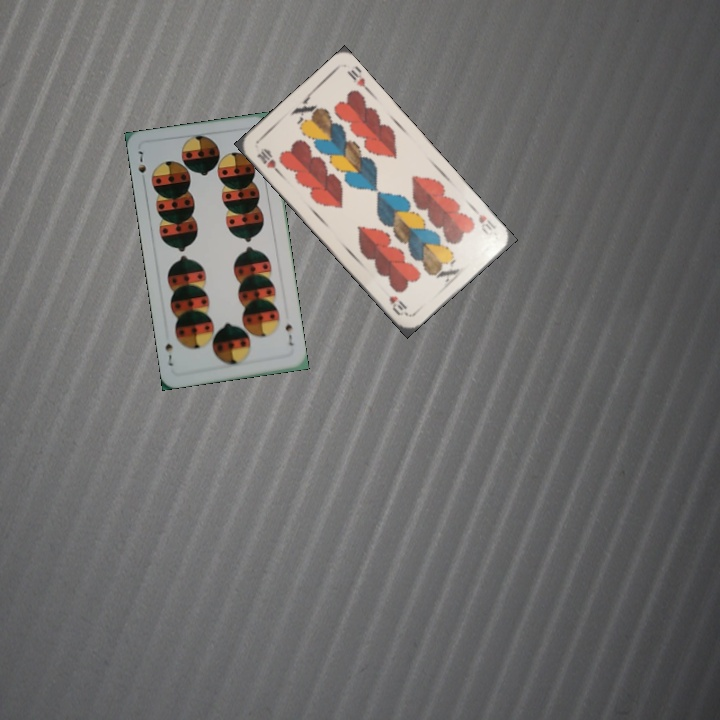H10: (468, 203, 498, 238), (253, 144, 283, 177)
S7: (134, 147, 149, 186), (281, 319, 296, 348)
